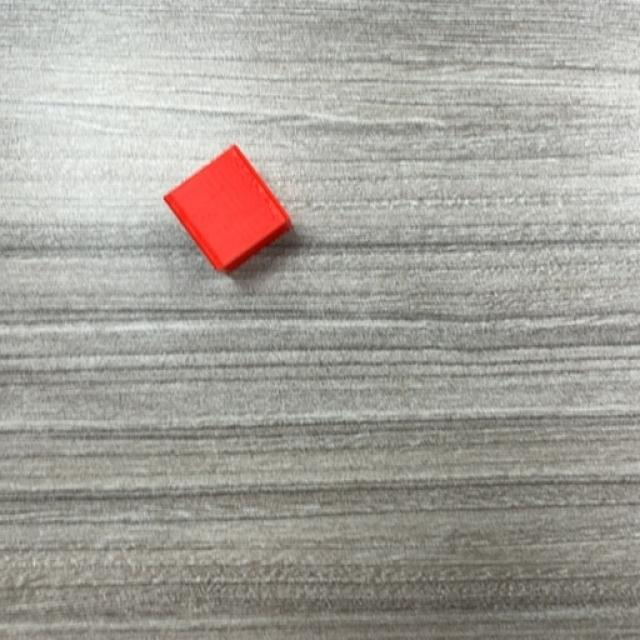Rojo: (162, 145, 294, 275)
